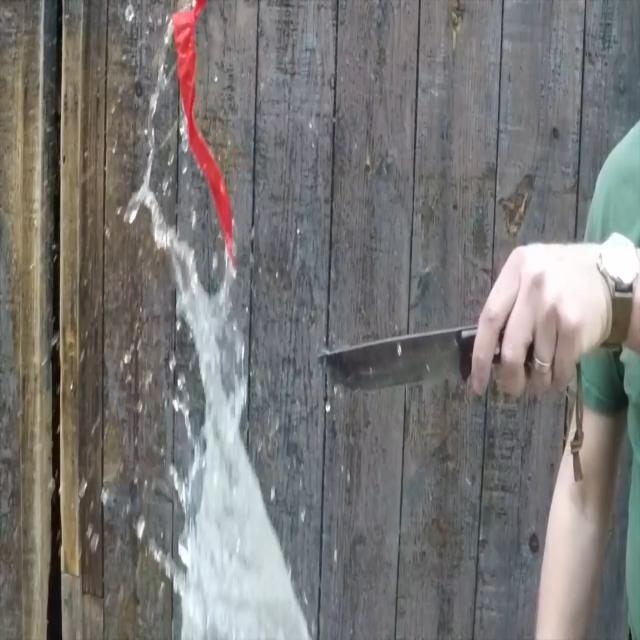knife: (319, 320, 509, 393)
